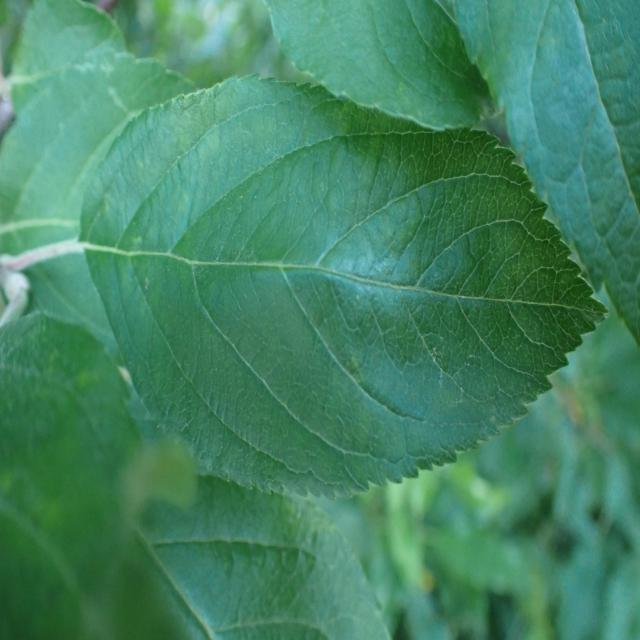healthy: (80, 72, 610, 500), (0, 0, 198, 353), (450, 0, 640, 348), (133, 471, 392, 639), (265, 0, 495, 131)
